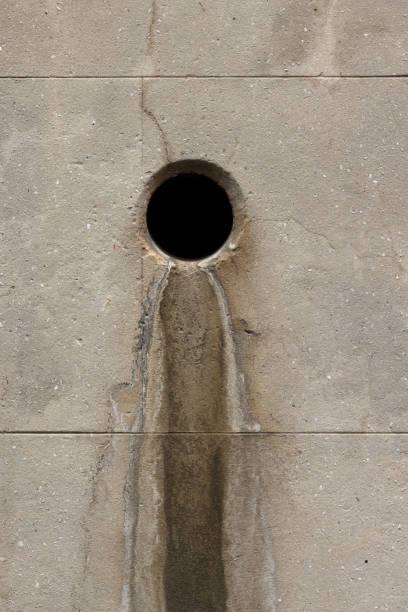Corrosion: (119, 261, 279, 612)
Crack: (72, 399, 115, 612), (140, 1, 171, 163), (247, 216, 336, 250)
Spalling: (134, 158, 246, 272)
